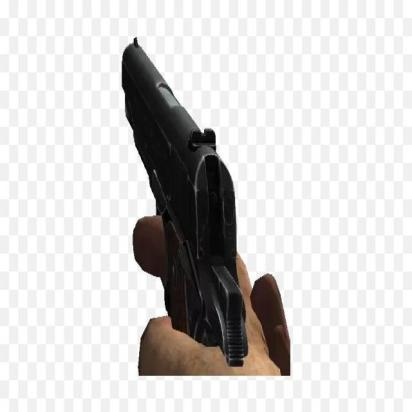Gun: (109, 33, 257, 382)
